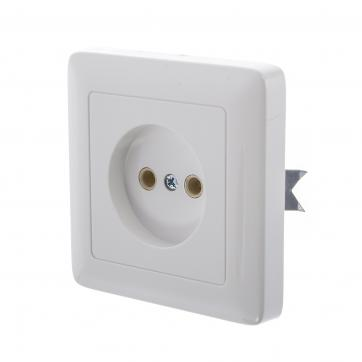raccoon: (106, 123, 205, 249)
